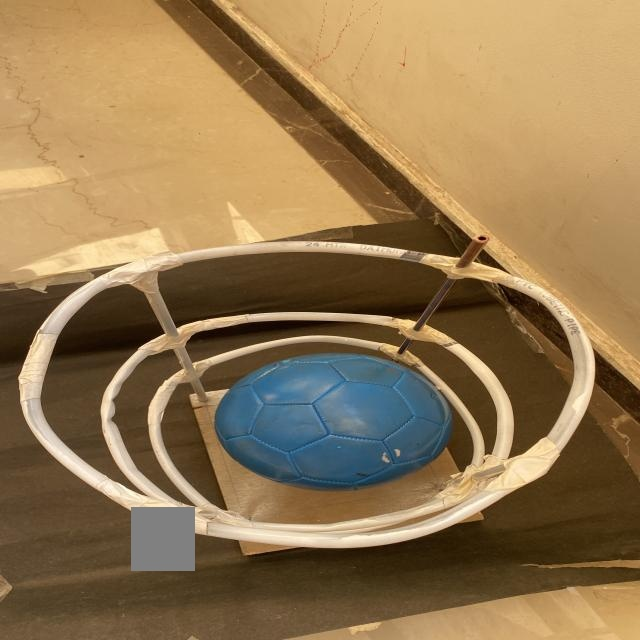blue_ball: (218, 349, 457, 481)
silo: (23, 238, 604, 543)
